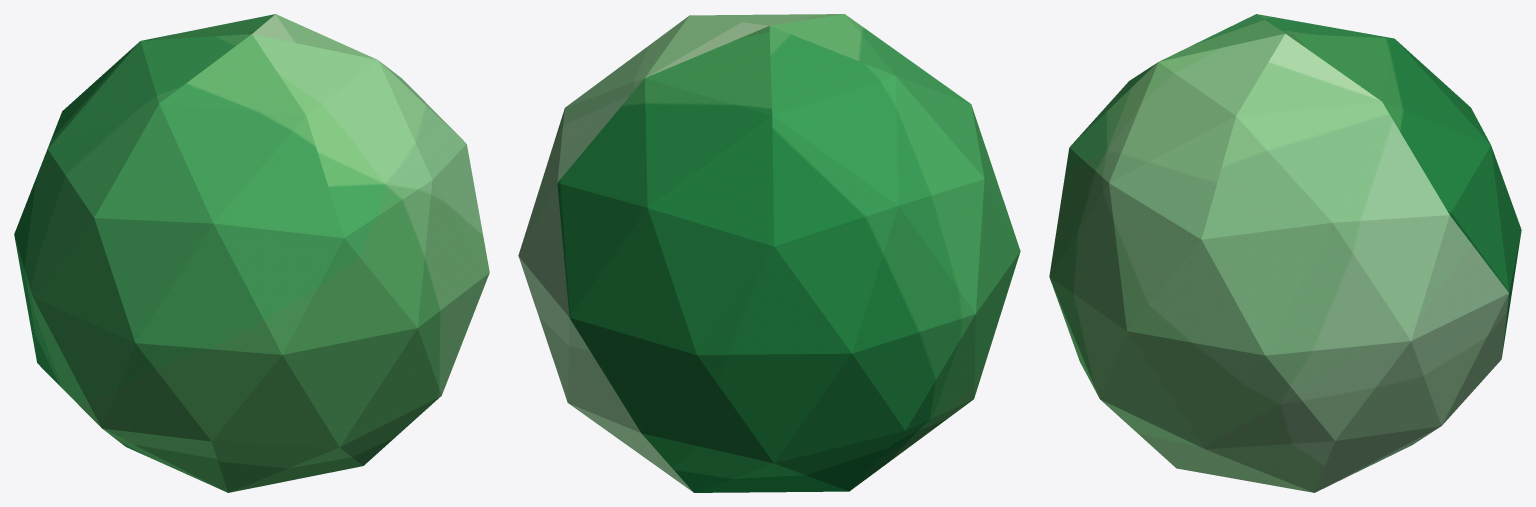
Rendered from fondfin.obj.
3 renders of one model, left to right at view 1: azimuth 30°, elevation 25°; view 2: azimuth 150°, elevation 25°; view 3: azimuth 270°, elevation 25°, orthographic. The views are drawn at different scales.
Visible parts, largest first — view 1: Icosphere; view 2: Icosphere; view 3: Icosphere.
Boxes of the visible parts, <box> form: Icosphere: <box>14,14,489,492</box>; Icosphere: <box>518,14,1020,492</box>; Icosphere: <box>1049,14,1521,492</box>.
Size of the model in its own units: 218 by 219 by 213.
Materials: 1 (1 with a texture image).
